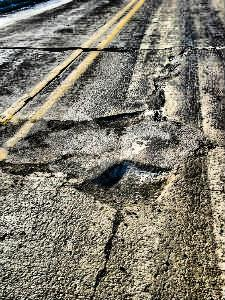pothole: (78, 158, 179, 214), (144, 46, 192, 124), (19, 115, 82, 150), (93, 111, 151, 131)
